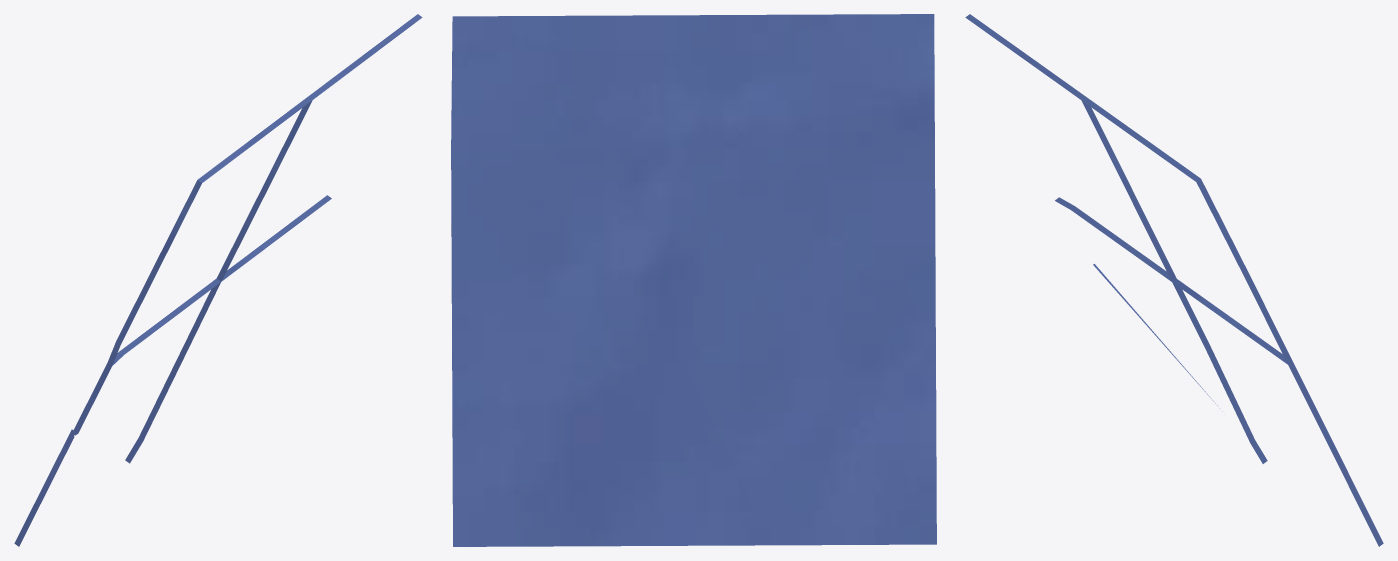
3 views of the same model, side by side, from view 1: azimuth 30°, elevation 25°; view 2: azimuth 150°, elevation 25°; view 3: azimuth 270°, elevation 25° (orthographic). The views are drawn at different scales.
Size of the model in its own units: 19653 by 17895 by 16445.
Materials: 1 (1 with a texture image).
